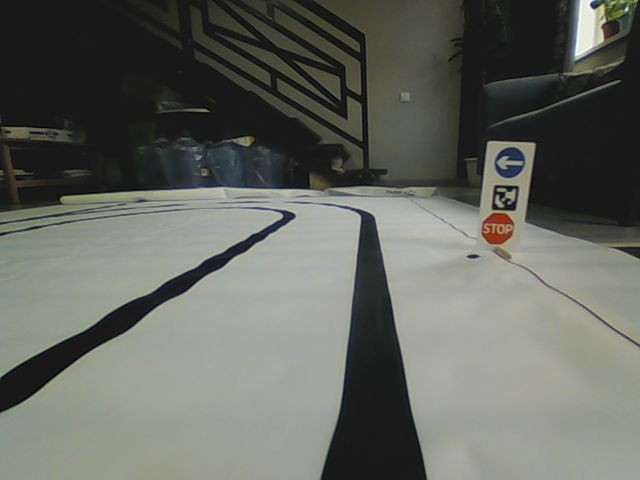Stop: (480, 211, 517, 245)
